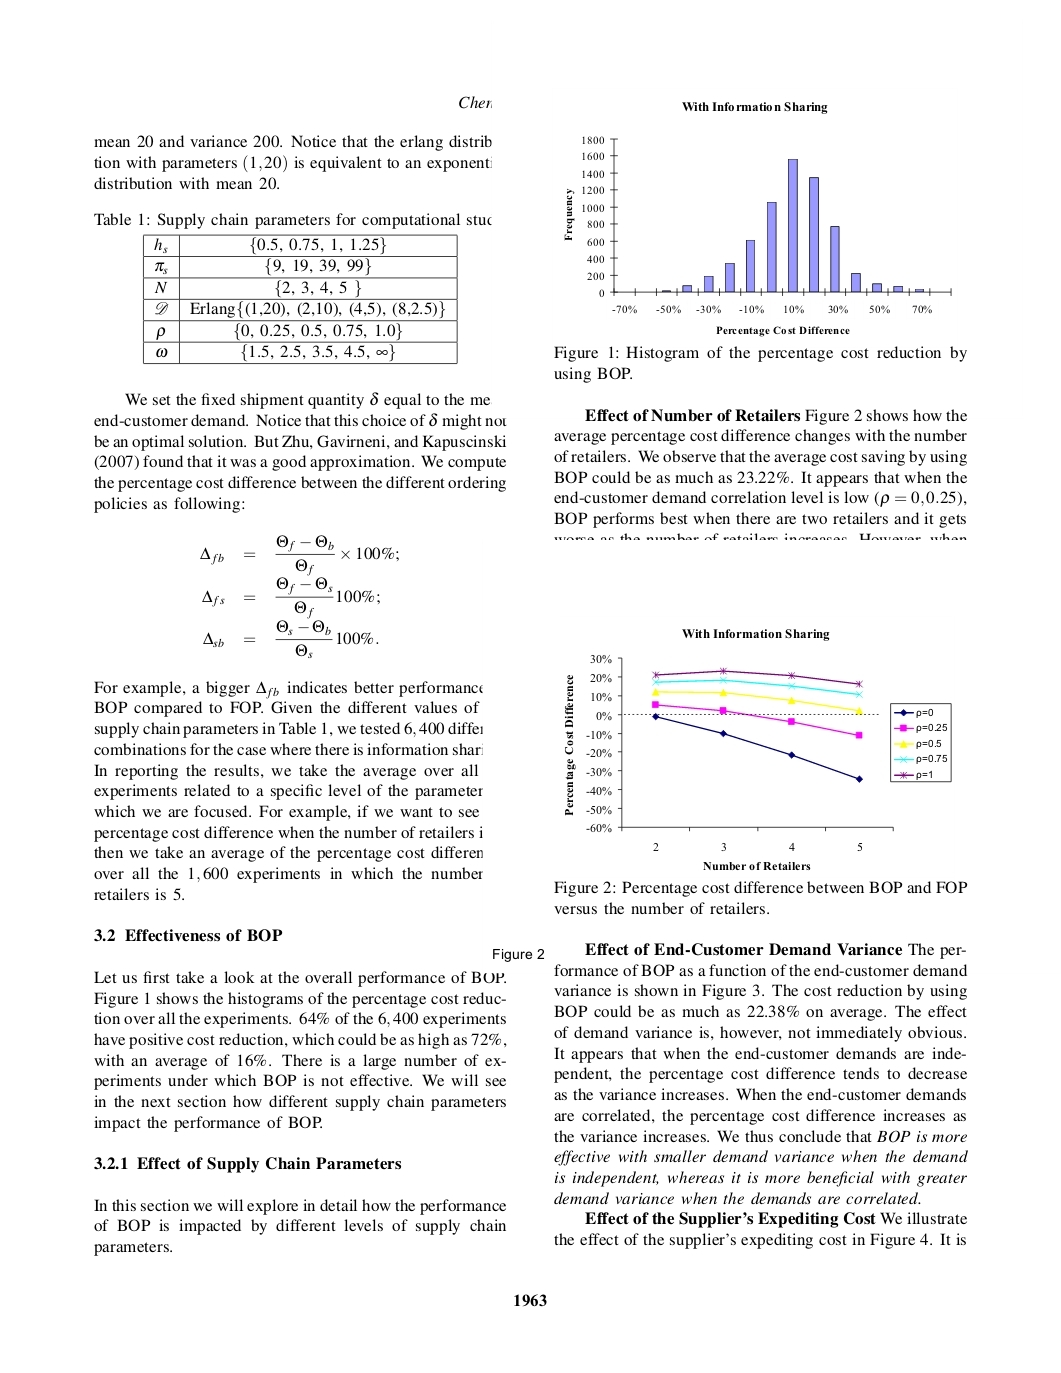Table: (143, 232, 457, 364), (199, 534, 398, 658)
figure: (565, 655, 951, 870), (564, 136, 951, 335)
